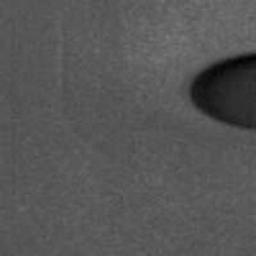Punching: (187, 51, 256, 131)
